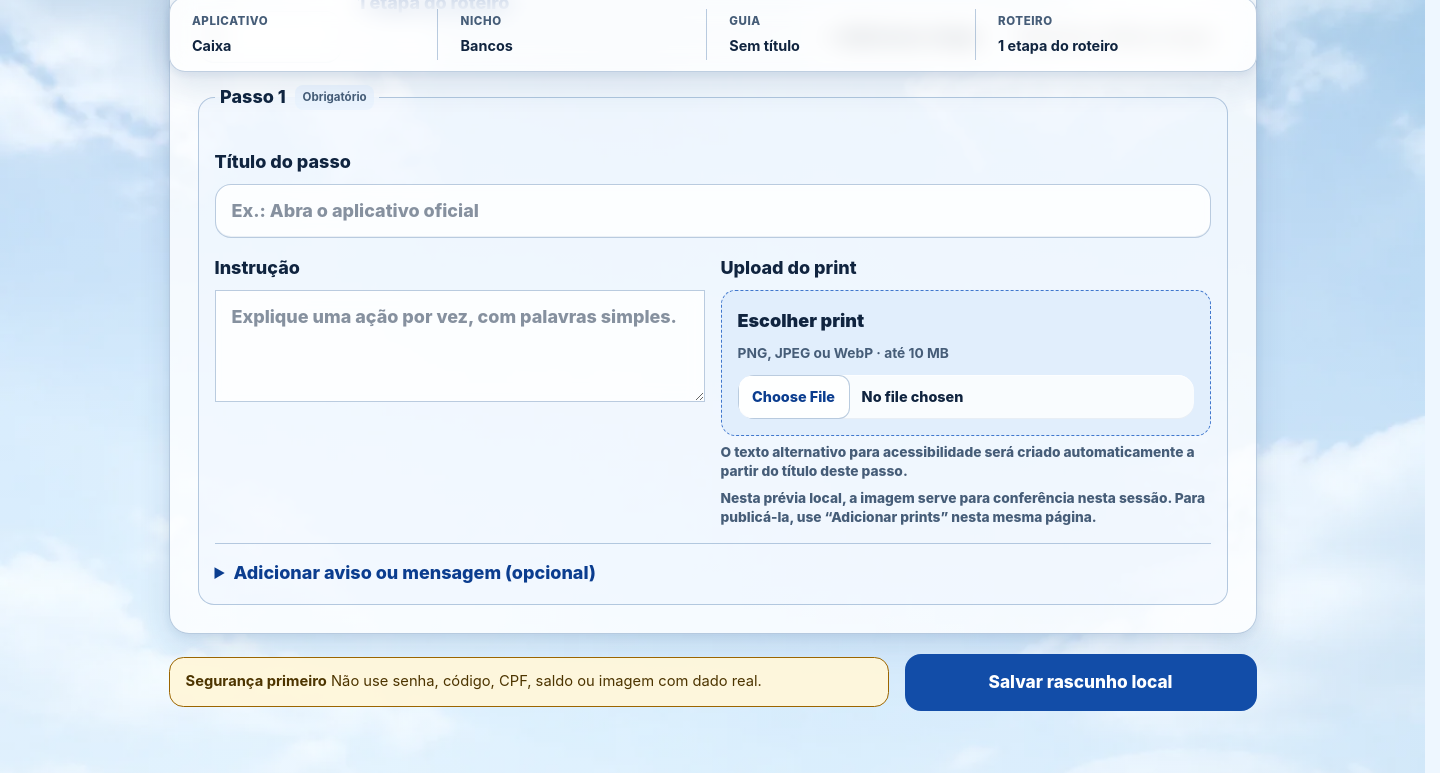
Test case: formulário de criação de guias › mostra validação inline para campos vazios do passo
This screenshot has width=1440, height=773.
(page scrolled)
Click the button "Salvar rascunho local": (1080, 682) [904, 654, 1256, 711]
(page scrolled)
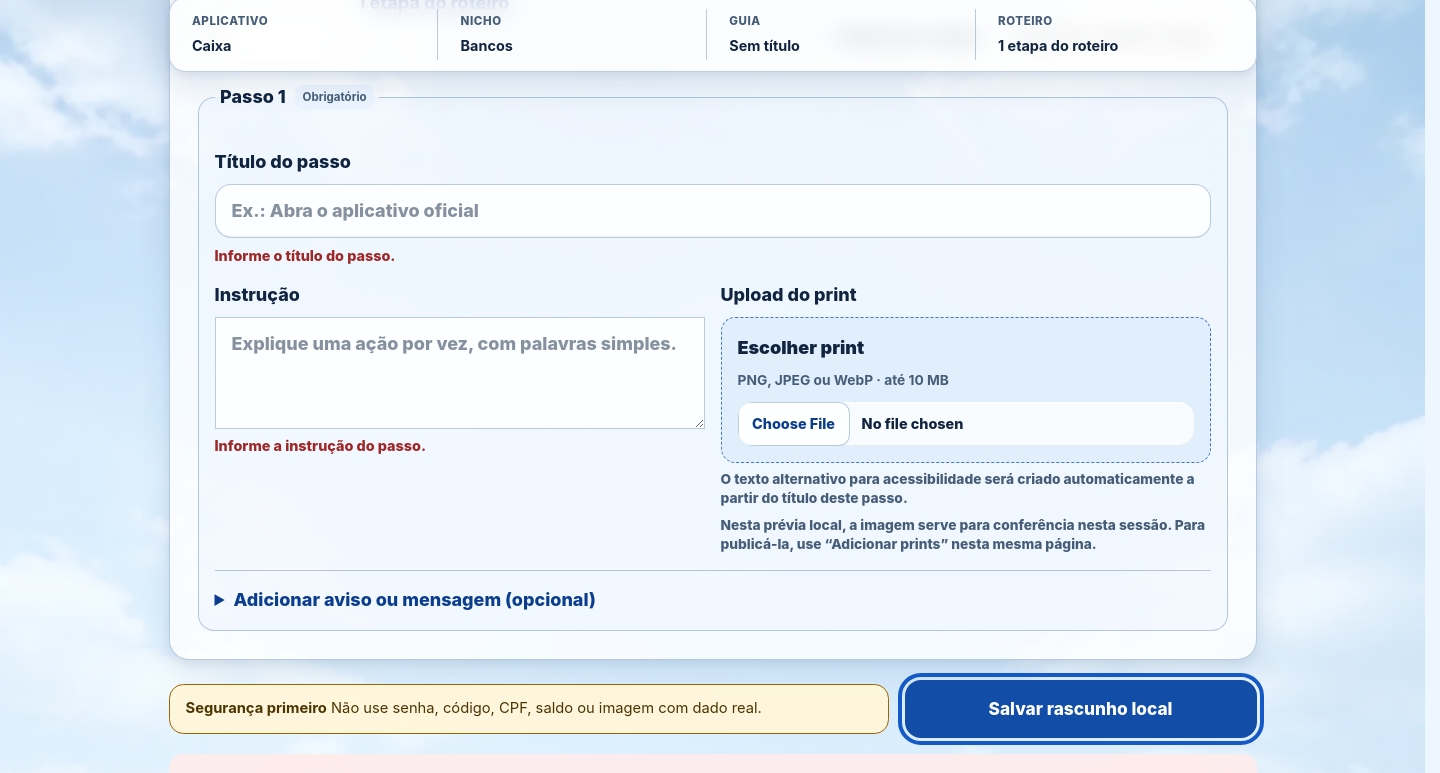
Check: the text "Informe o título do passo." is shown, box [214, 247, 395, 264]
